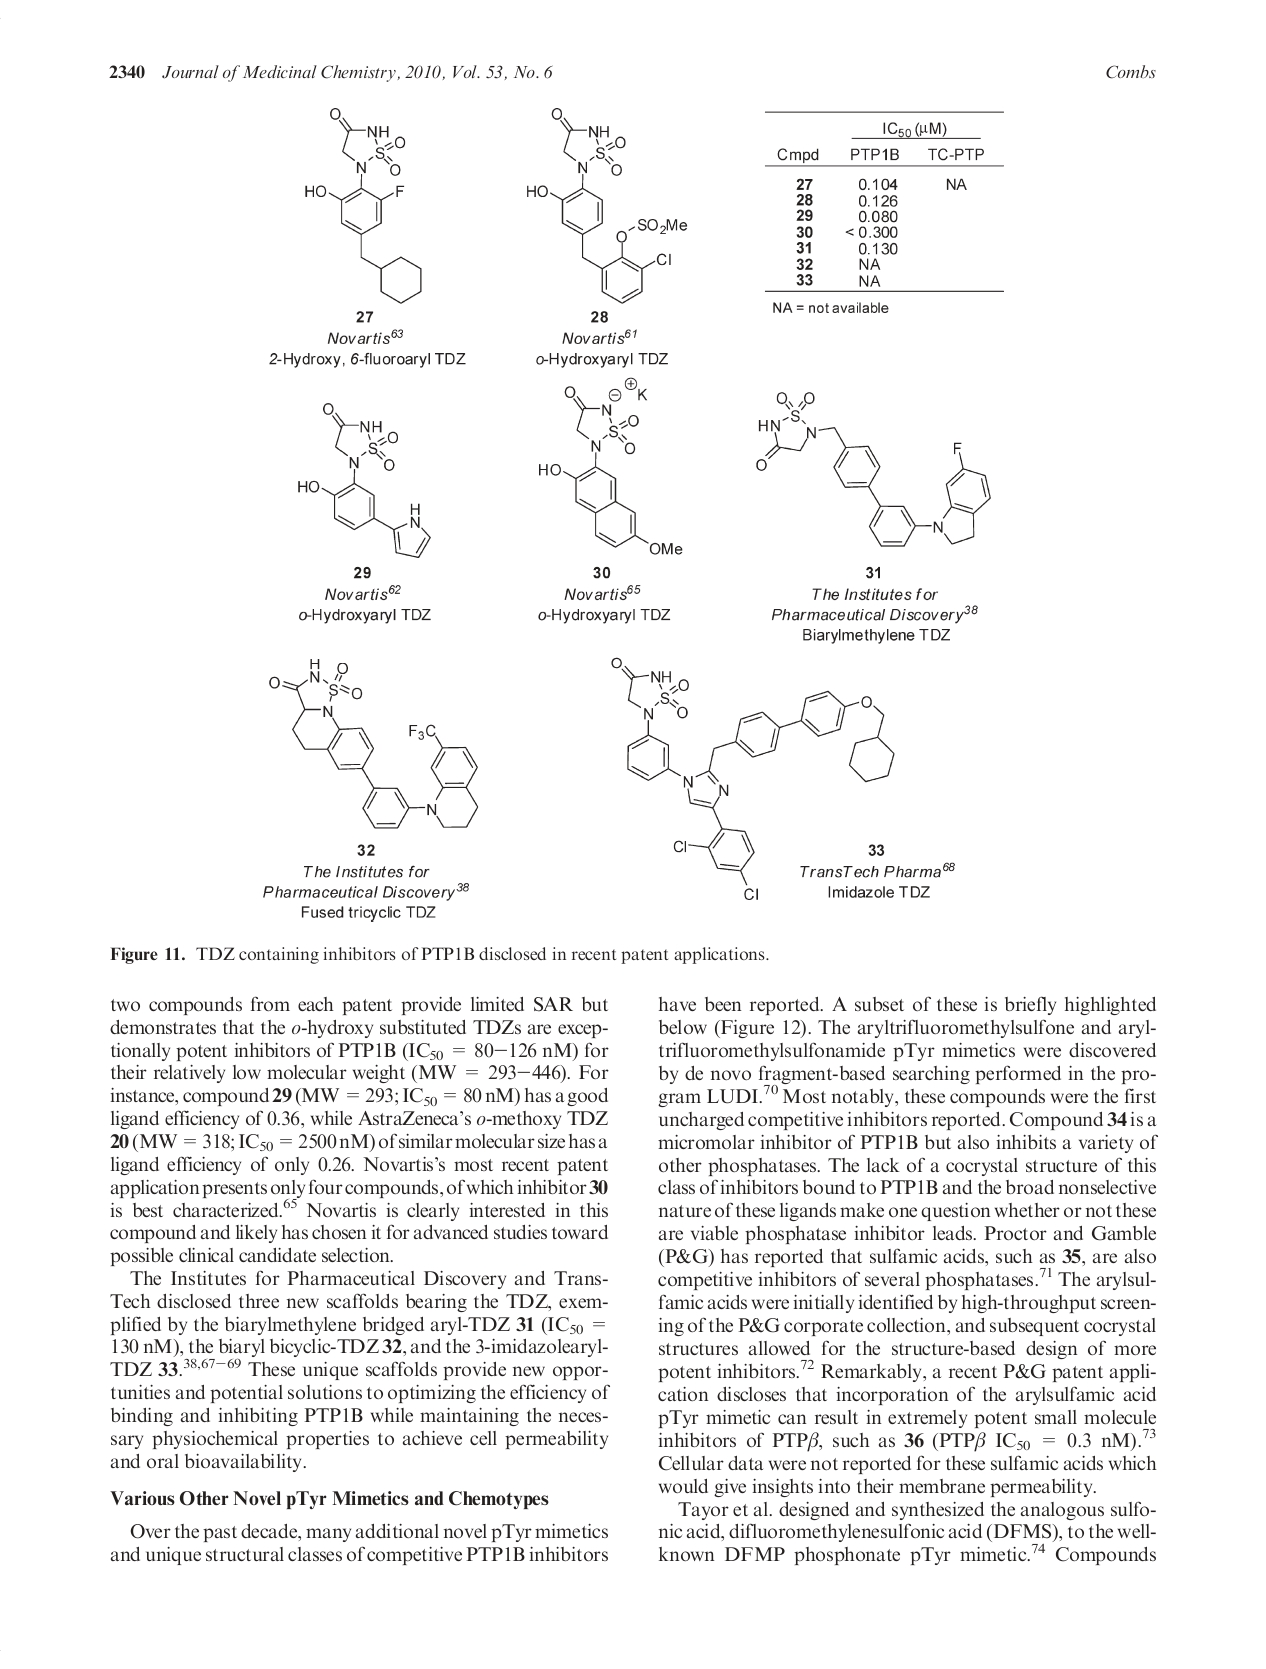exist_molecular: (608, 653, 896, 903), (751, 390, 993, 549), (269, 656, 479, 833), (524, 106, 688, 306), (535, 376, 684, 556), (302, 105, 423, 305), (295, 400, 432, 559)
